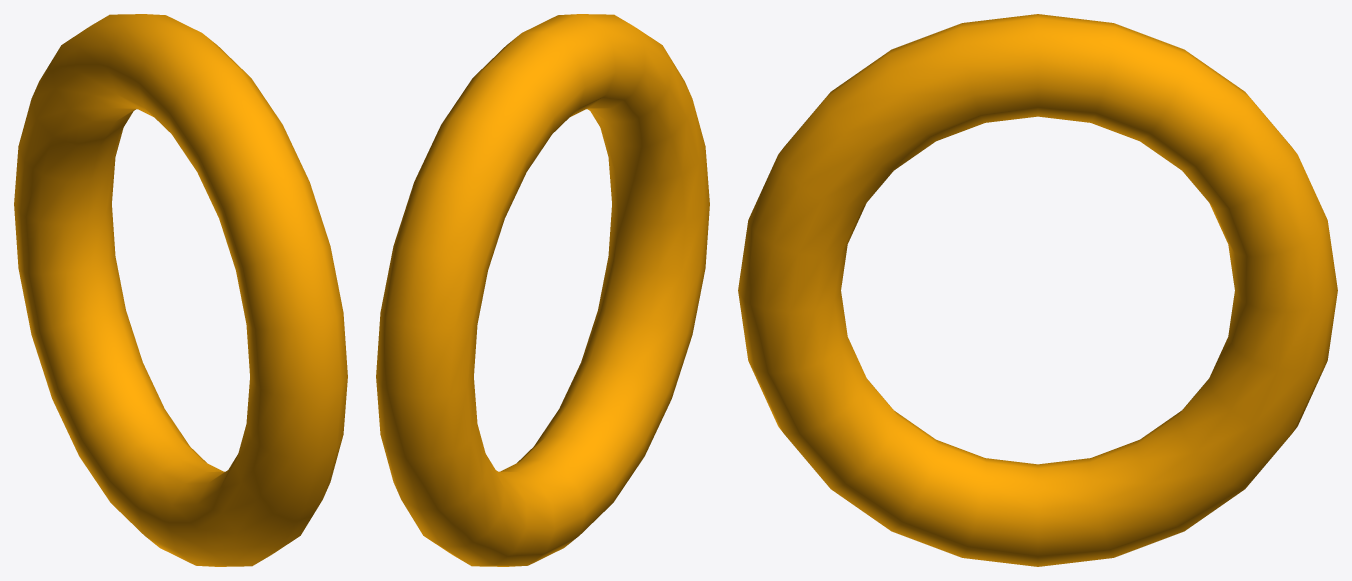
Rendered from ringnew.DAE.
3 views of the same model, side by side, from view 1: azimuth 30°, elevation 25°; view 2: azimuth 150°, elevation 25°; view 3: azimuth 270°, elevation 25° (orthographic). The views are drawn at different scales.
Parts seen in each view (by area): view 1: Torus001; view 2: Torus001; view 3: Torus001.
Boxes of the visible parts, x1=… form: Torus001: x1=14, y1=14, x2=347, y2=566; Torus001: x1=376, y1=14, x2=709, y2=566; Torus001: x1=738, y1=14, x2=1337, y2=566.
Size of the model in its own units: 12.06 by 70.23 by 70.23.
